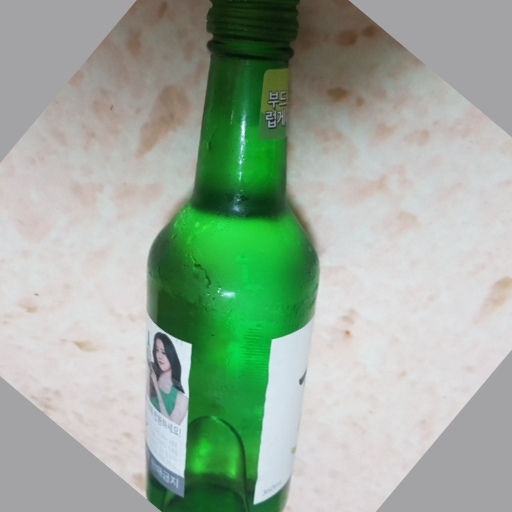Glass_0: (141, 1, 324, 512)
